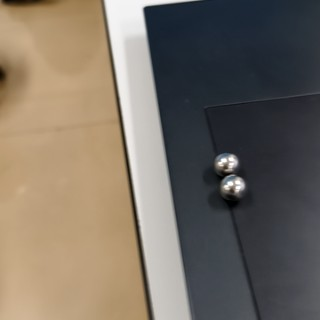ironball: (220, 167, 249, 201), (212, 145, 239, 176)
